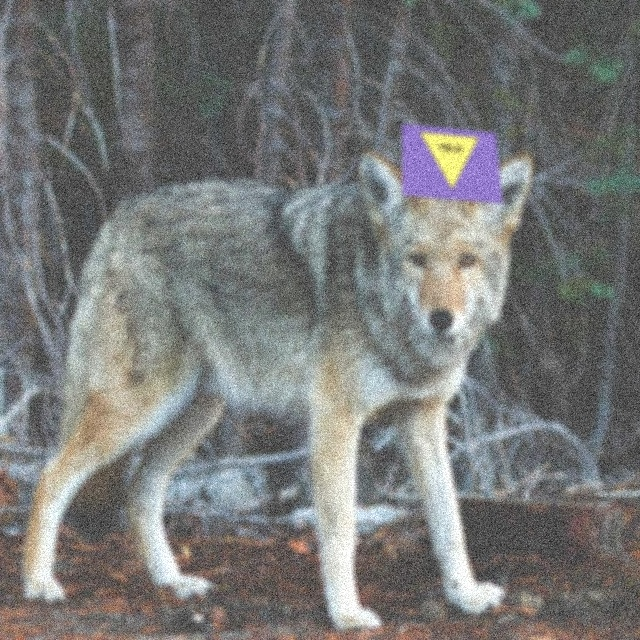YIELD: (418, 132, 484, 193)
